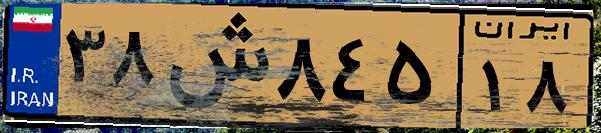1: (475, 38, 525, 113)
3: (57, 26, 110, 100)
4: (330, 28, 385, 110)
5: (385, 28, 445, 110)
8: (270, 28, 330, 110), (525, 38, 570, 115), (110, 28, 158, 98)
ش: (158, 12, 270, 120)
